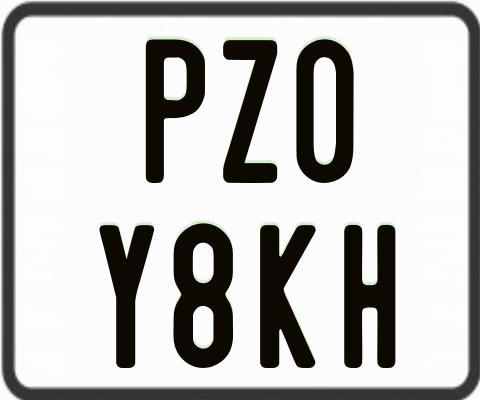0: (295, 36, 356, 182)
8: (170, 221, 235, 372)
H: (343, 224, 397, 373)
K: (257, 224, 319, 373)
P: (143, 37, 202, 185)
Y: (100, 224, 155, 368)
Z: (220, 37, 277, 184)
